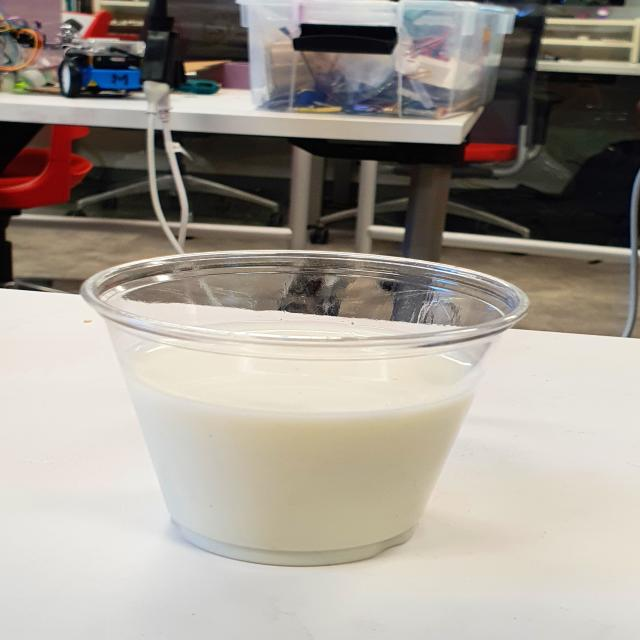Milk: (72, 233, 536, 574)
